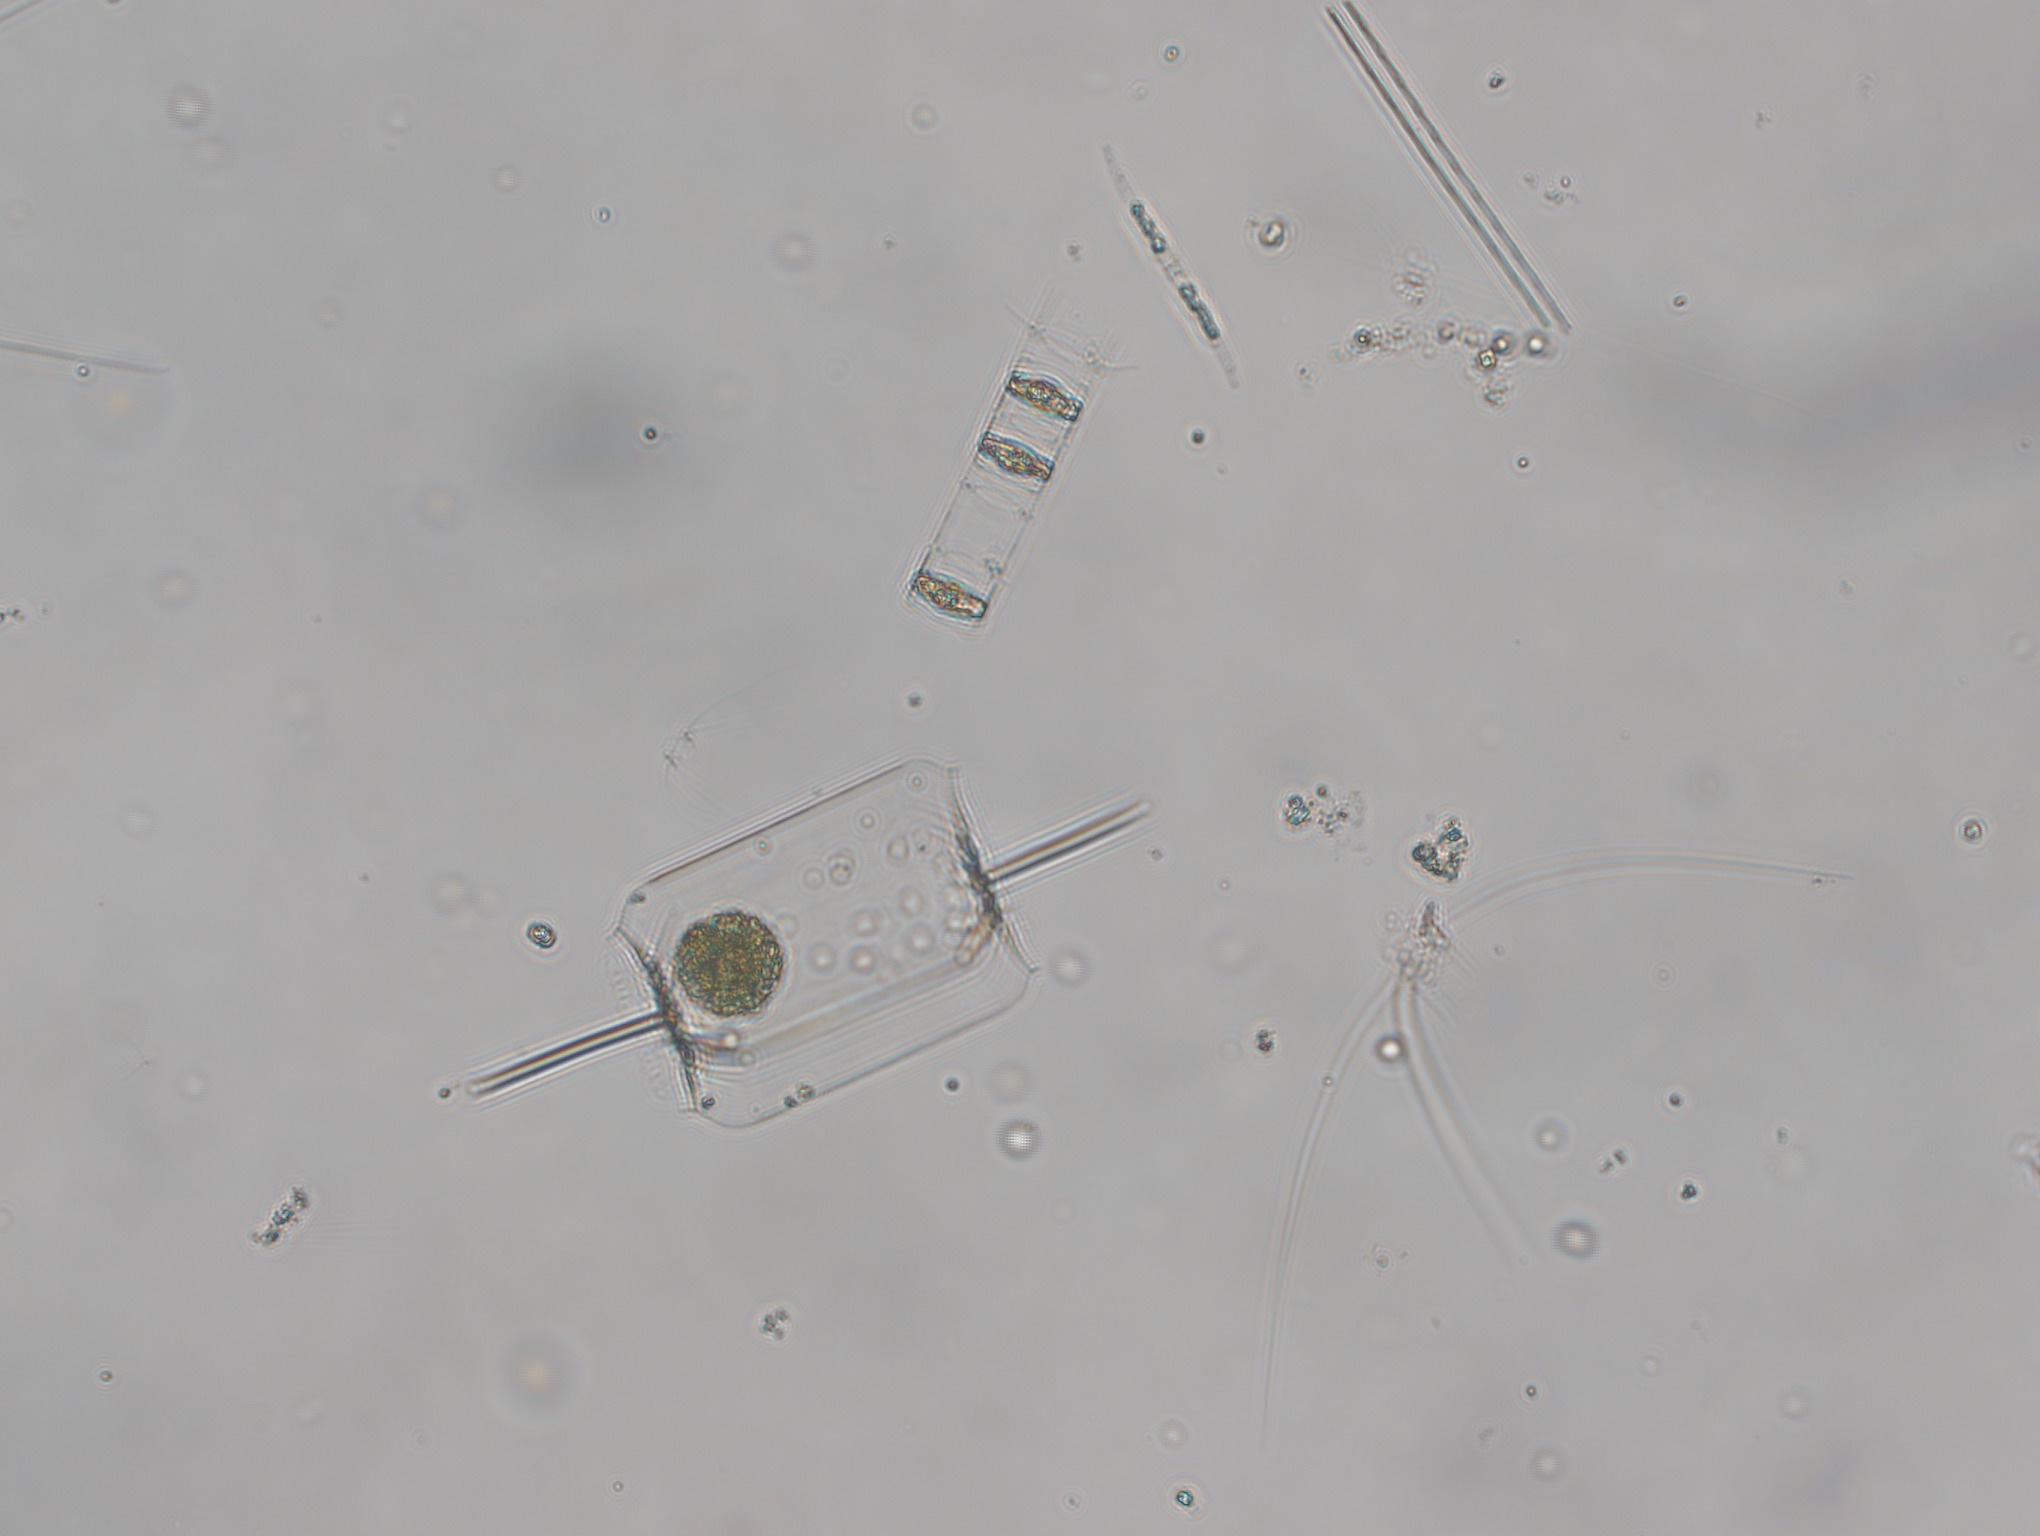chaetoceros: (903, 282, 1135, 657)
ditylum: (447, 747, 1208, 1147)
pleurosigma pelagicum: (1095, 139, 1259, 403)
